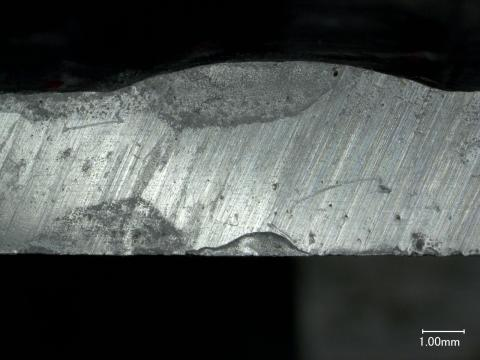test: (116, 61, 429, 91)
